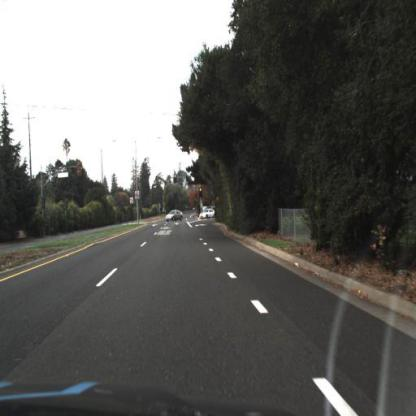car: (166, 209, 184, 224), (200, 208, 216, 222)
